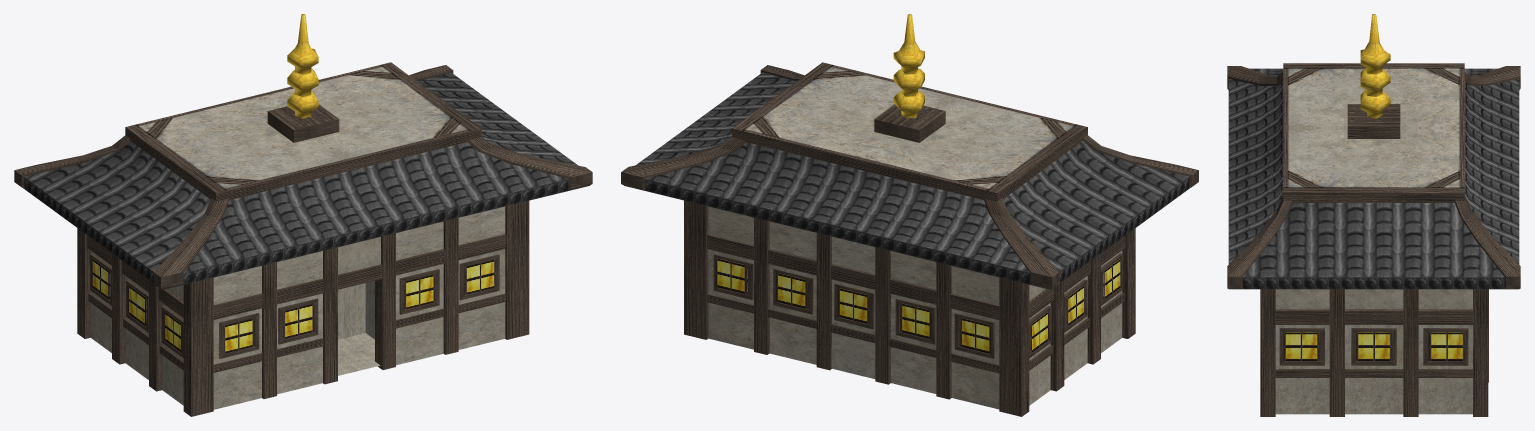
Rendered from casa-oriental-03-c.fbx.
3 renders of one model, left to right at view 1: azimuth 30°, elevation 25°; view 2: azimuth 150°, elevation 25°; view 3: azimuth 270°, elevation 25°, orthographic.
Parts seen in each view (by area): view 1: Cube.000, Cube.002, Cube.001; view 2: Cube.000, Cube.002; view 3: Cube.000, Cube.002.
Part boxes in pixels (left/top/right/bottom): Cube.000: left=14, top=14, right=592, bottom=416; Cube.002: left=91, top=258, right=495, bottom=353; Cube.001: left=338, top=281, right=380, bottom=375; Cube.000: left=621, top=14, right=1198, bottom=416; Cube.002: left=715, top=258, right=1121, bottom=353; Cube.000: left=1227, top=14, right=1520, bottom=416; Cube.002: left=1283, top=332, right=1465, bottom=361.
Bounding box in the file's own units: 9.14 × 6.46 × 5.37.
